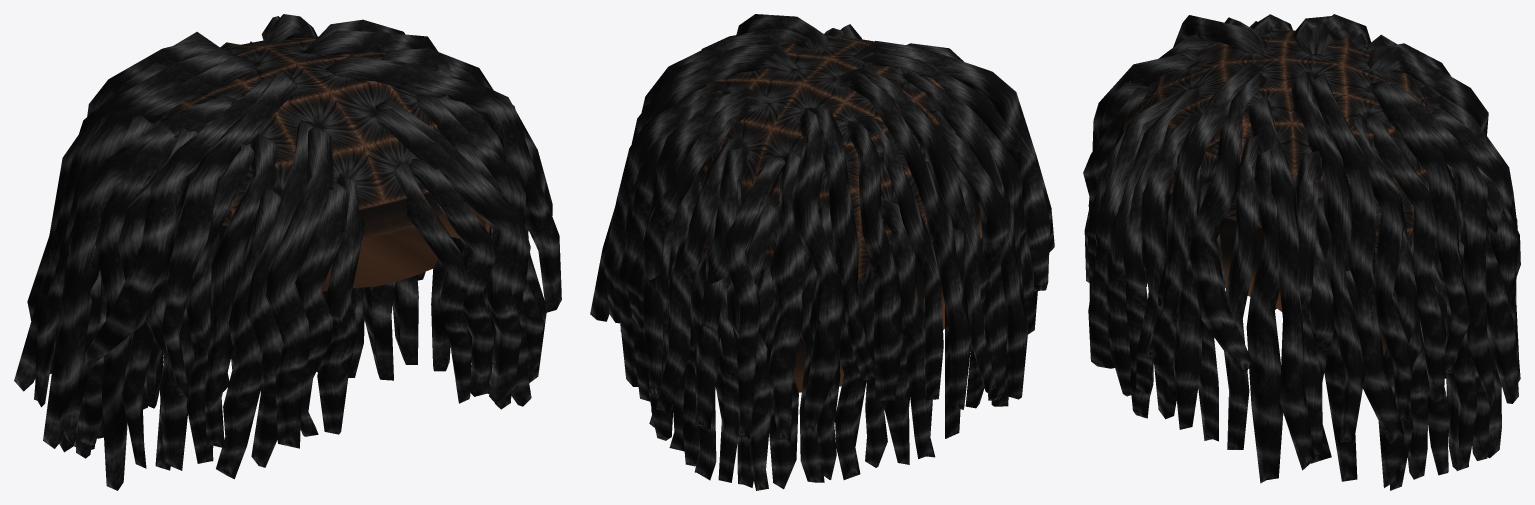
3 views of the same model, side by side, from view 1: azimuth 30°, elevation 25°; view 2: azimuth 150°, elevation 25°; view 3: azimuth 270°, elevation 25° (orthographic). The views are drawn at different scales.
Visible parts, largest first — view 1: geometry_0; view 2: geometry_0; view 3: geometry_0.
Part boxes in pixels (<box>): geometry_0: <box>14,14,561,490</box>; geometry_0: <box>590,14,1054,490</box>; geometry_0: <box>1083,14,1520,490</box>.
Size of the model in its own units: 1.76 by 1.54 by 1.53.
1 material, 1 textured.
